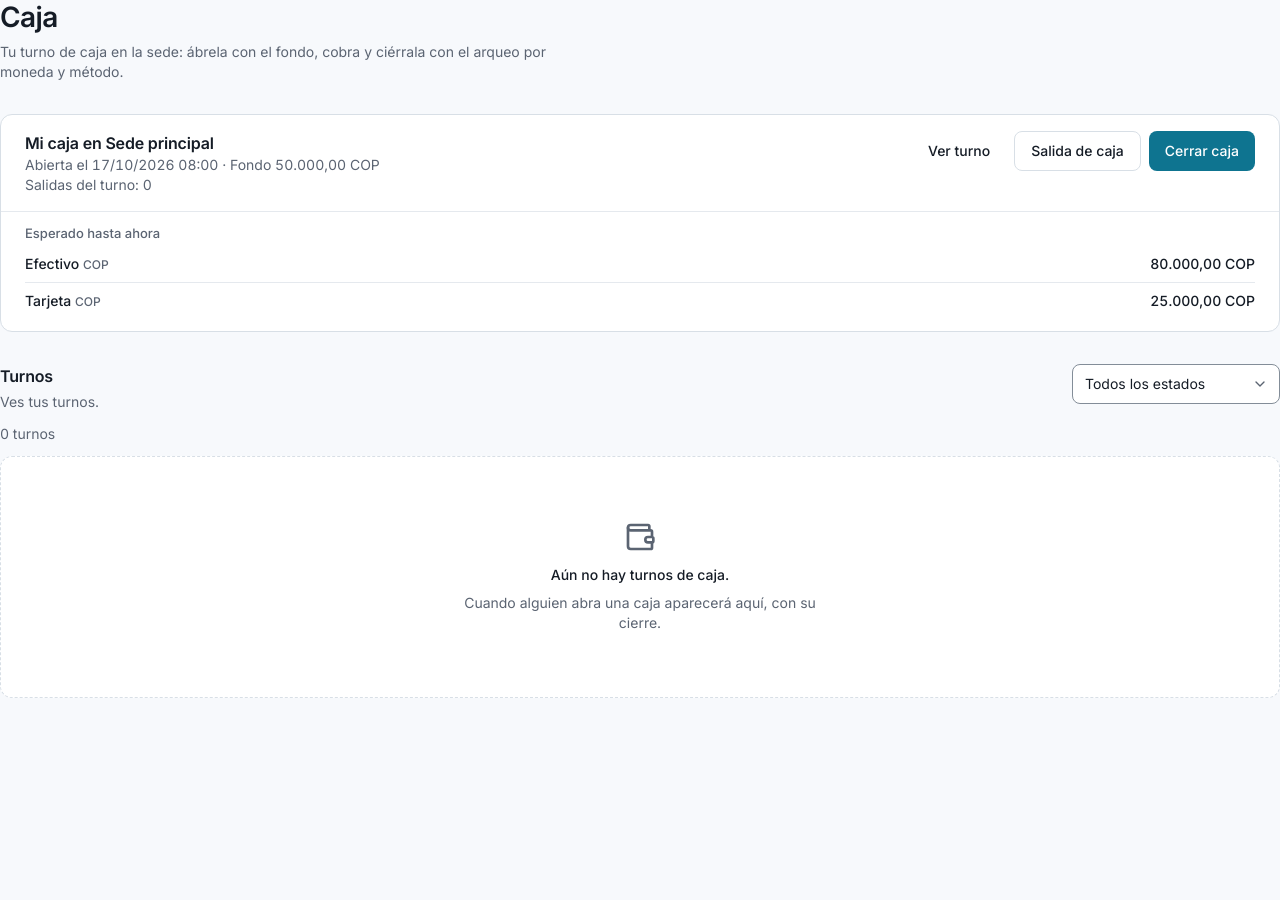
Test case: CashShiftsView (DX-027) › DX-274: «Salida de caja» abre el modal con la sede de la caja; al registrarla se recarga el turno
The image size is (1280, 900).
Expected: the text "Salidas del turno: 0" is shown, left=25, top=176, right=152, bottom=193
Click the button "Salida de caja".
click(1078, 151)  # box left=1014, top=131, right=1141, bottom=171
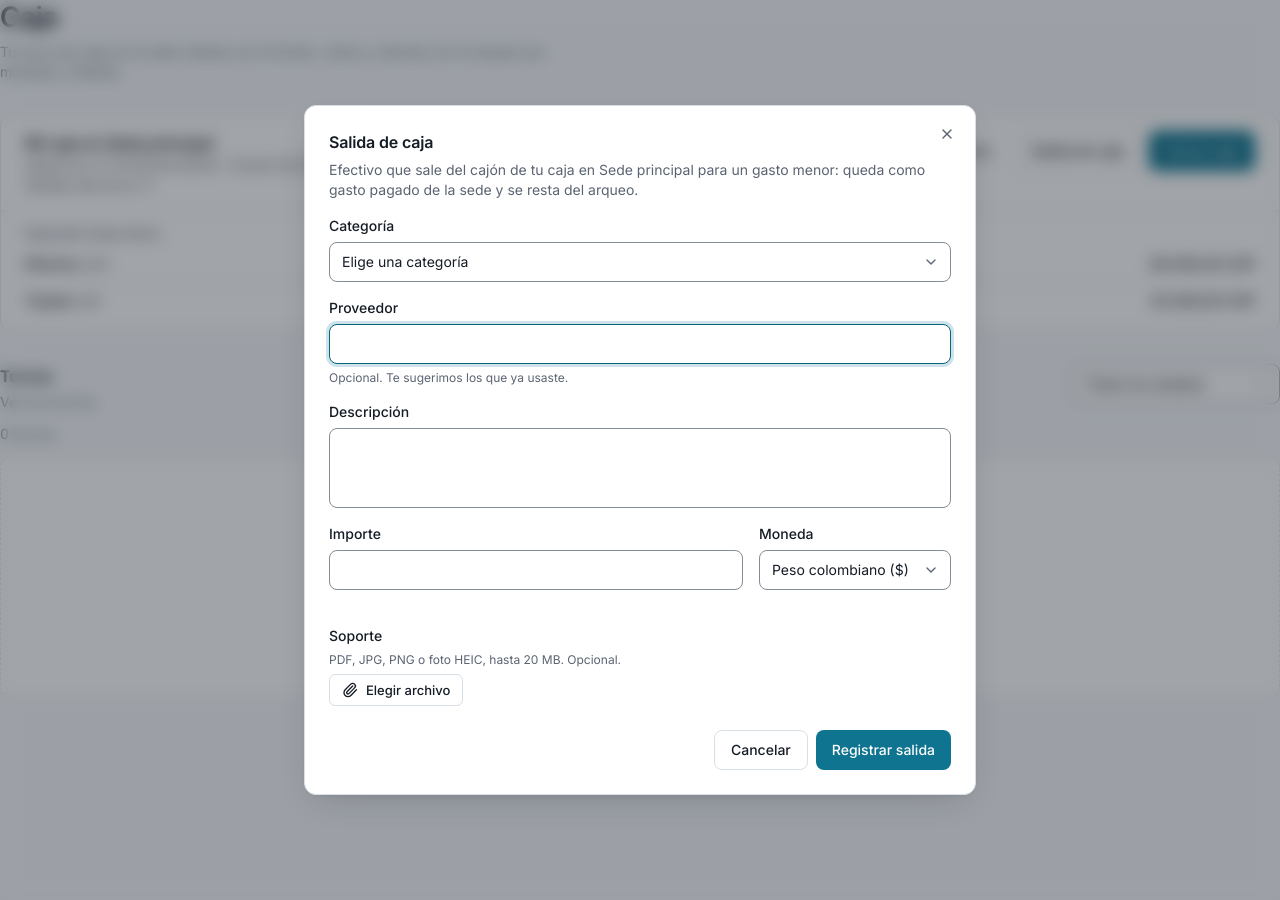
Select "Mensajería" in the dropdown labelled "Categoría" at x=640, y=262, box left=329, top=242, right=951, bottom=282
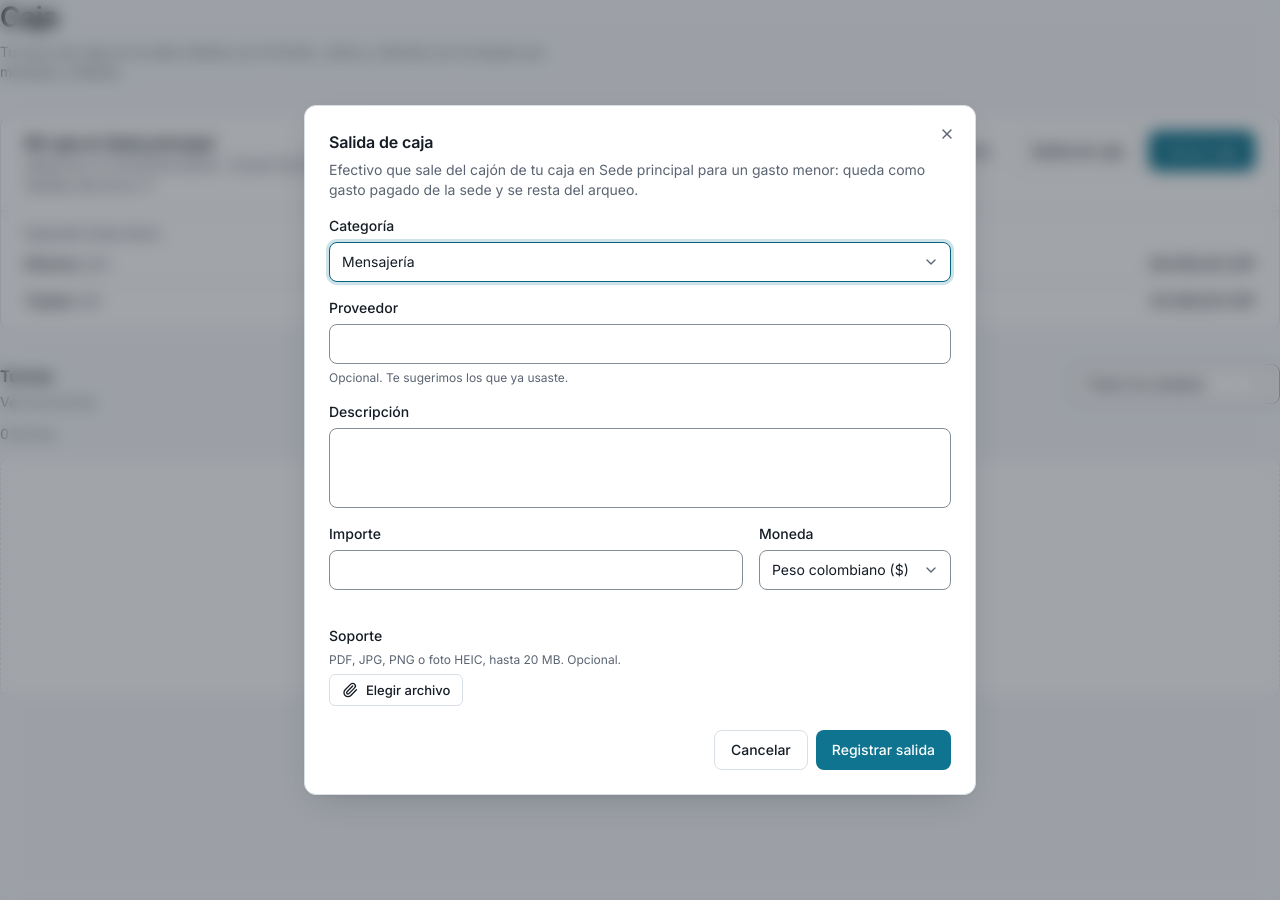
Type "8000" into the field labelled "Importe".
click(536, 570); type("8000")  # box left=329, top=550, right=743, bottom=590
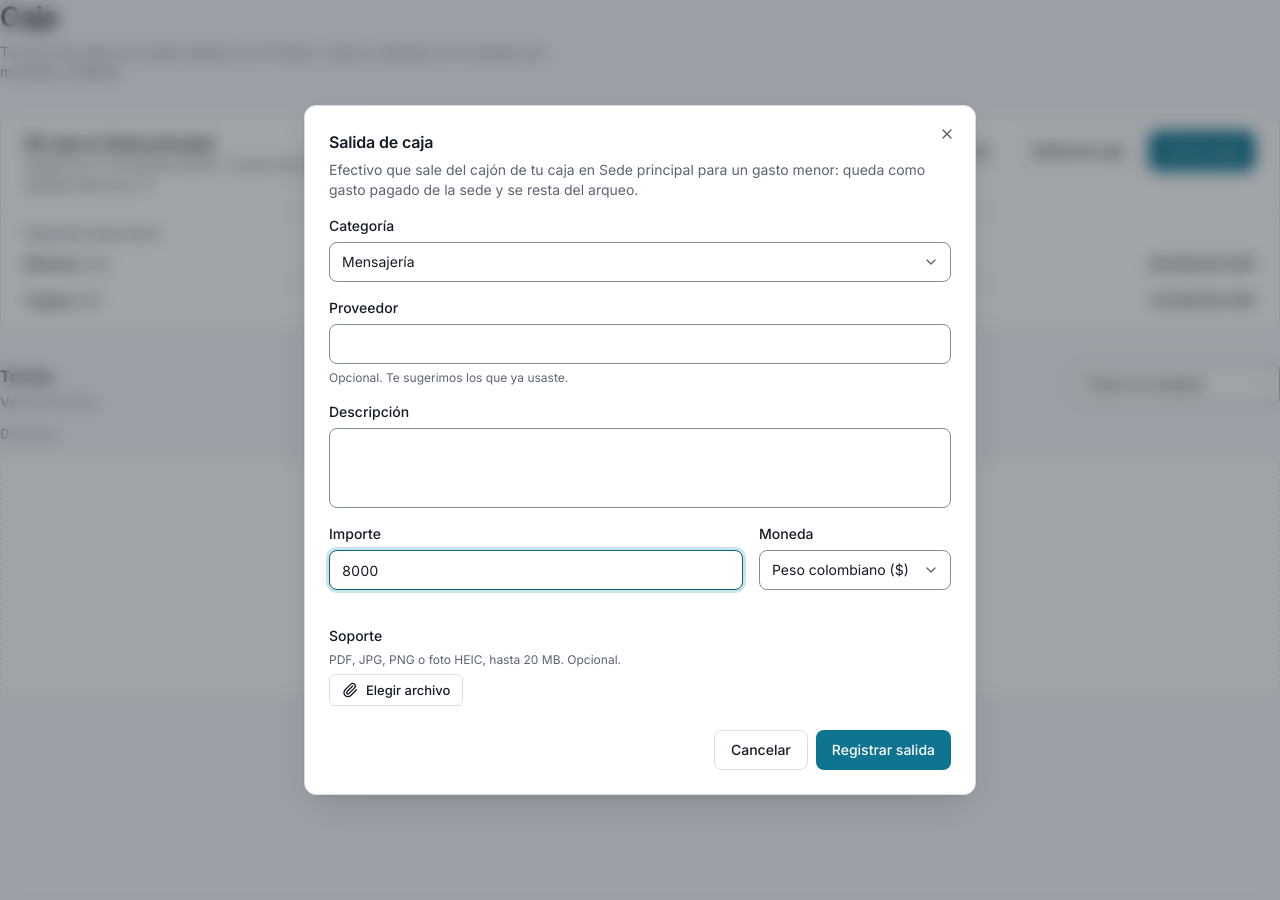
Click the button "Registrar salida".
click(883, 750)  # box left=816, top=730, right=951, bottom=770
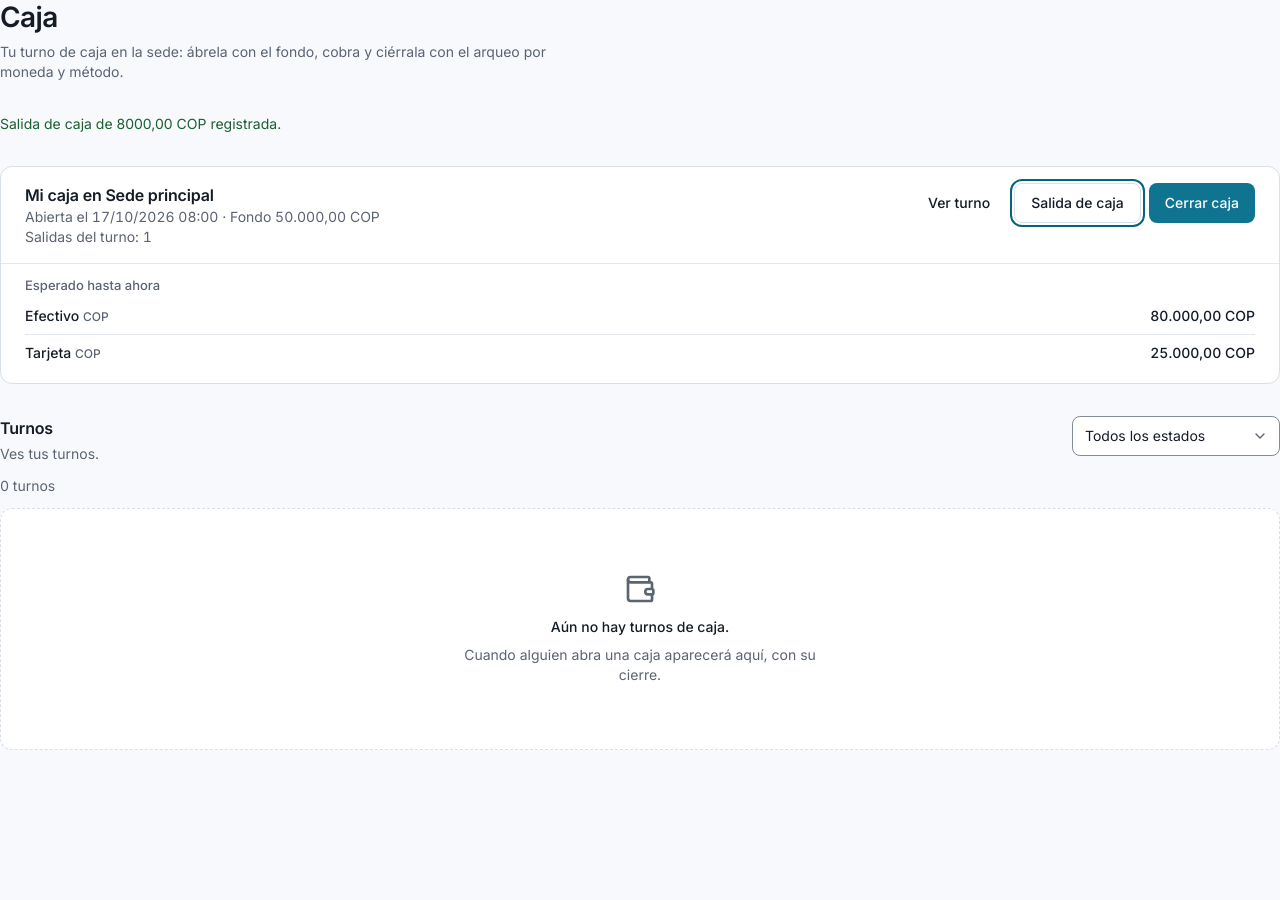
Result: the text "Salida de caja de 8000,00 COP registrada." is shown at left=0, top=115, right=281, bottom=132
Result: the text "Salidas del turno: 1" is shown at left=25, top=228, right=152, bottom=245
